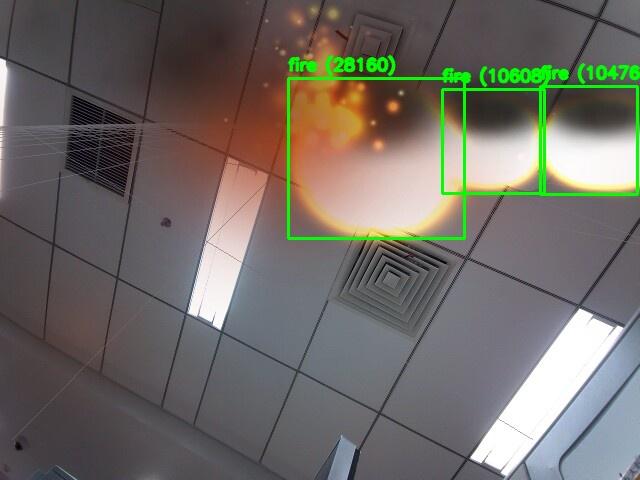fire: (288, 78, 464, 238), (442, 89, 544, 193), (540, 86, 637, 194)
